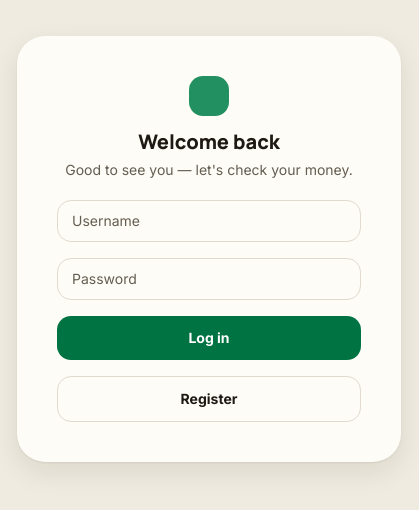
Login › shows an error and stays put when the credentials are rejected
In the field with placeholder "Username": coordinates (209, 221) [57, 200, 361, 242], type "alice"
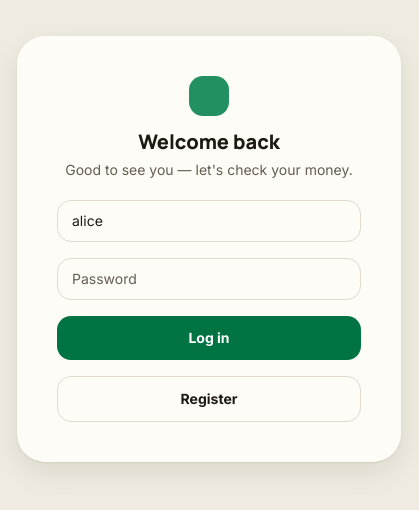
In the password field with placeholder "Password": coordinates (209, 279) [57, 258, 361, 300], type "wrong"
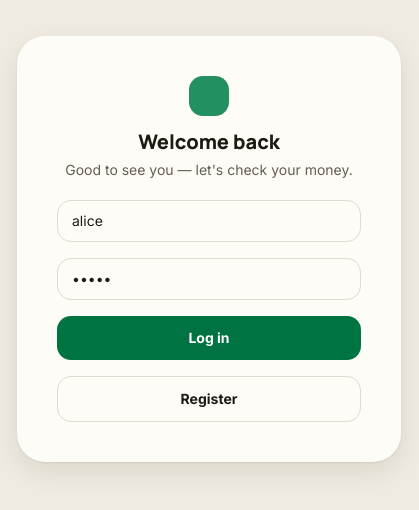
Submit the form, box [57, 200, 361, 422]
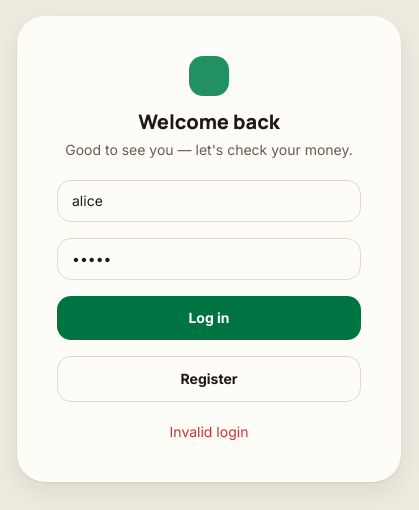
Expected: the text "Invalid login" is shown, [170, 423, 248, 440]
